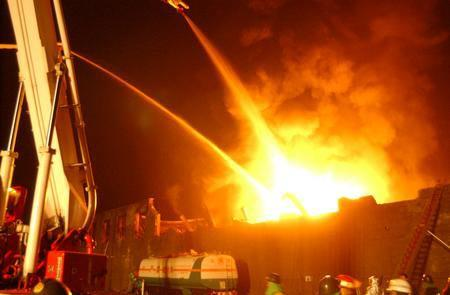fire: (223, 129, 398, 223)
smoke: (263, 7, 448, 118)
